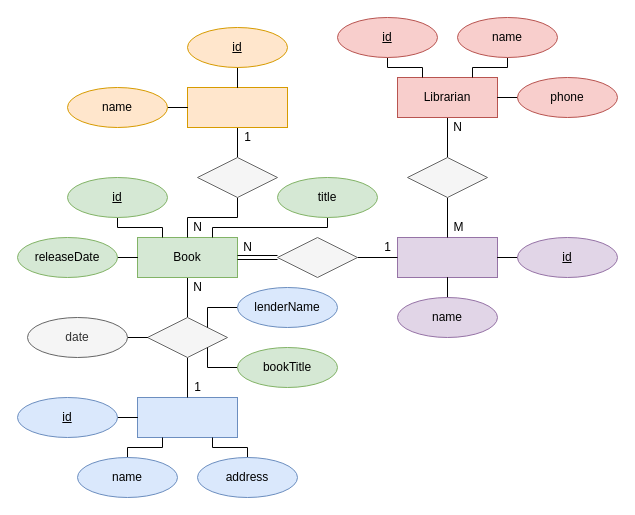
Some shapes in this 635 by 515 pixel diagram are drawn without their labels. Here are the shapes that lost their labels. From the top down, the centre of each, then its label:
At [237,107]: "Author".
At [237,177]: "Wrote".
At [447,177]: "Works at".
At [317,257]: "Belongs to".
At [447,257]: "Department".
At [187,337]: "Lends".
At [187,417]: "Library ID-Card".
